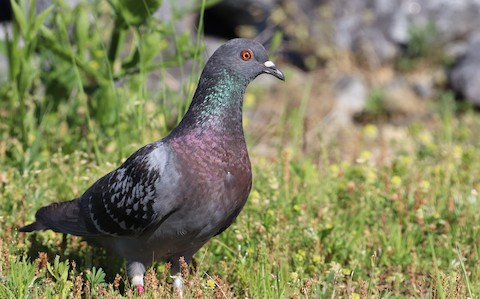pigeon: (15, 36, 290, 295)
